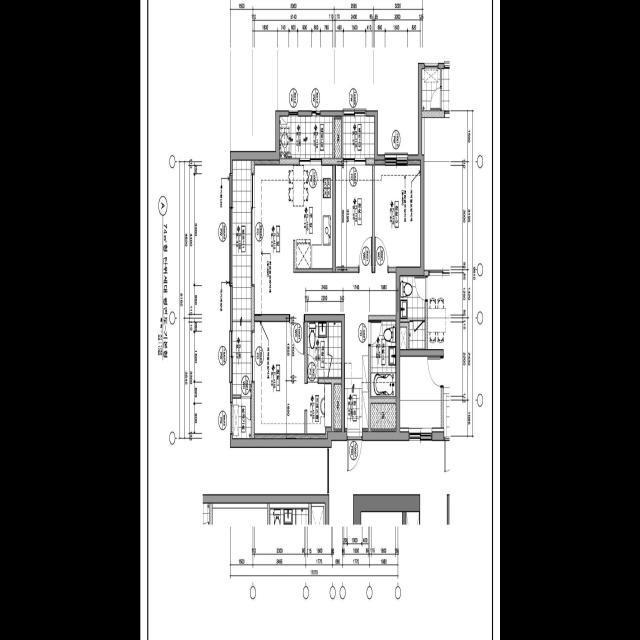background: (140, 0, 500, 640)
space_balconi: (232, 161, 251, 394), (279, 116, 332, 158), (343, 116, 374, 158)
space_bedroom: (254, 322, 304, 439), (374, 160, 420, 267), (335, 165, 372, 267)
space_dressroom: (307, 384, 331, 438)
space_front: (345, 378, 368, 431)
space_kitchen: (293, 165, 332, 269)
space_living_room: (254, 161, 395, 378)
space_other: (371, 404, 395, 431), (334, 385, 341, 431), (334, 116, 341, 158)
space_outdoor_room: (232, 399, 251, 438)
space_toilet: (307, 322, 341, 378), (370, 321, 395, 397)
